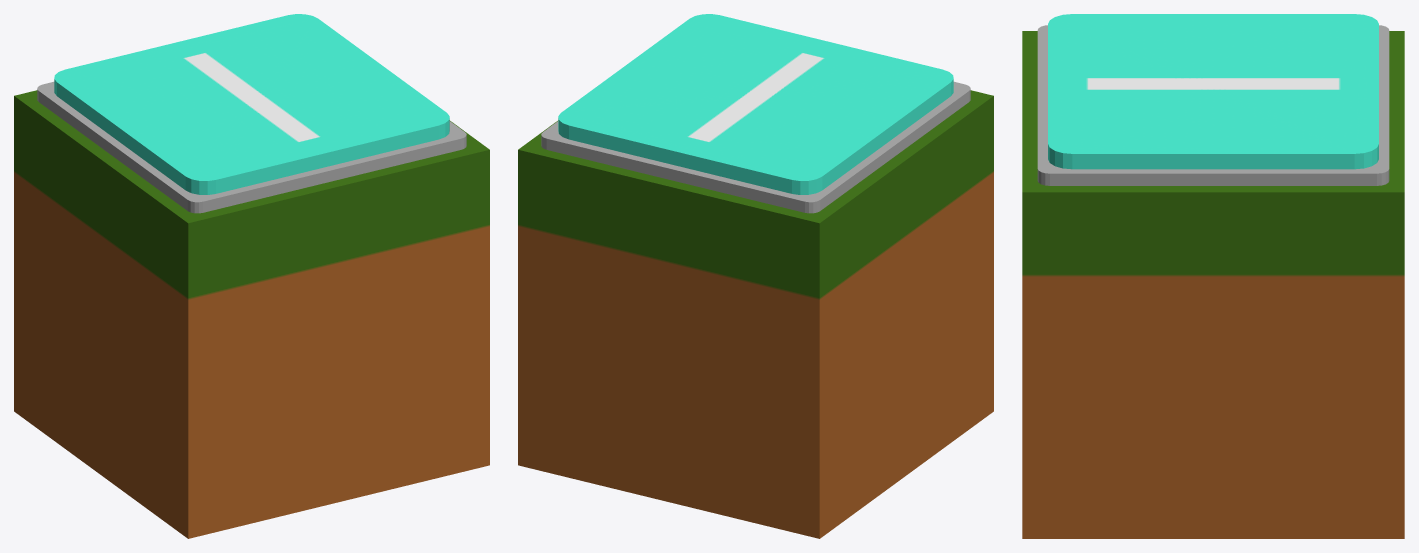
The model's file is ButtonI.fbx.
3 views of the same model, side by side, from view 1: azimuth 30°, elevation 25°; view 2: azimuth 150°, elevation 25°; view 3: azimuth 270°, elevation 25° (orthographic). The views are drawn at different scales.
Parts seen in each view (by area): view 1: ButtonI; view 2: ButtonI; view 3: ButtonI.
Boxes of the visible parts, x1,y1,x2,y2 form: ButtonI: [14, 14, 489, 538]; ButtonI: [518, 14, 993, 538]; ButtonI: [1022, 14, 1404, 538].
Bounding box in the file's own units: 200 × 216 × 200.
